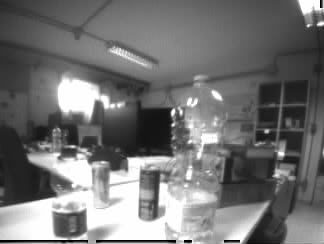Bottle: (166, 73, 224, 241), (52, 146, 87, 240), (52, 125, 60, 153)
Tin can: (140, 167, 158, 220), (91, 161, 110, 207)
